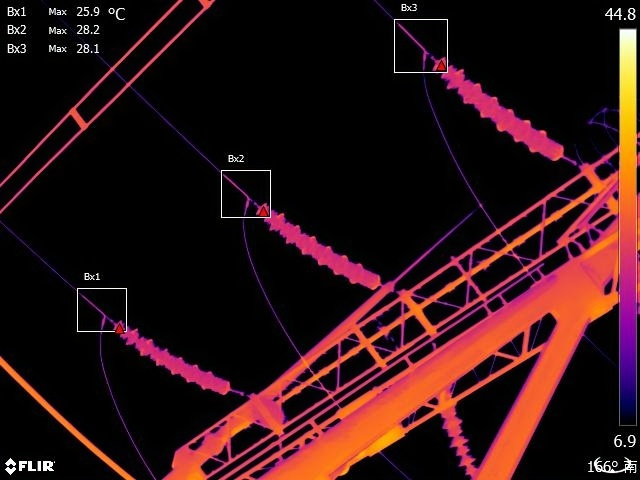clamp: (408, 40, 435, 69), (234, 188, 259, 210), (94, 304, 109, 329)
insulator: (447, 66, 571, 166), (262, 201, 388, 290), (118, 320, 235, 401), (441, 389, 482, 478)
